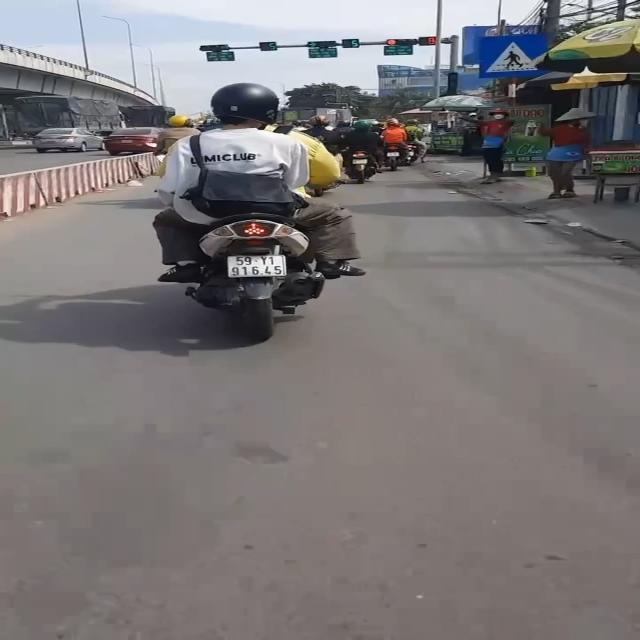224-duong-nguoi-di-bo-cat-ngang: (483, 39, 551, 76)
